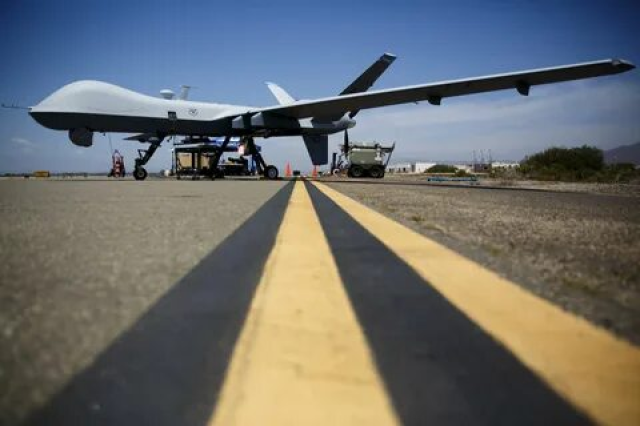military drone: (0, 50, 640, 178)
